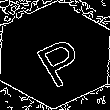P_NW: (23, 24, 87, 86)
